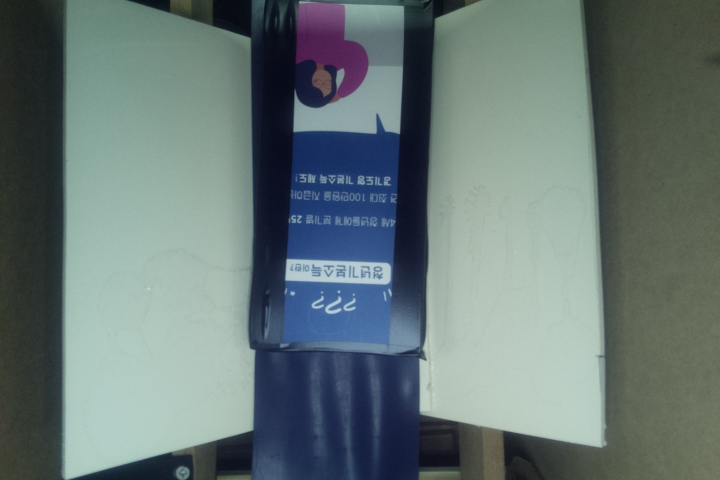book: (247, 1, 437, 357)
